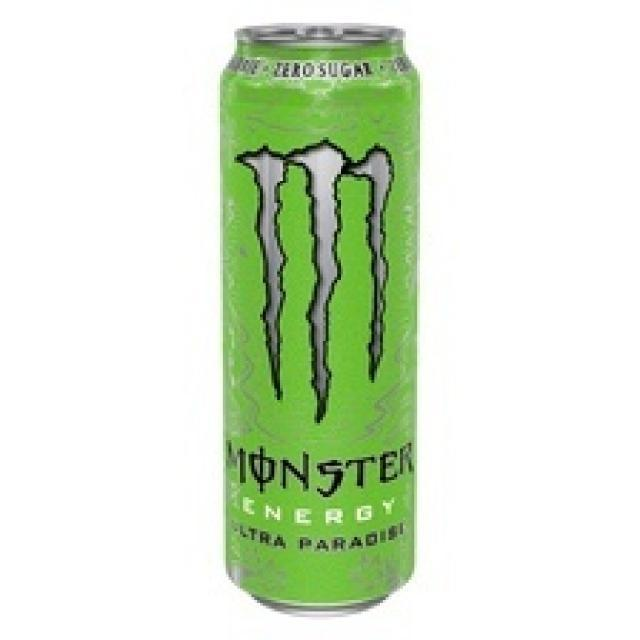recyclable: (214, 26, 420, 614)
